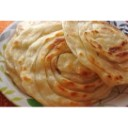parota: (10, 20, 111, 106), (61, 21, 128, 83)
